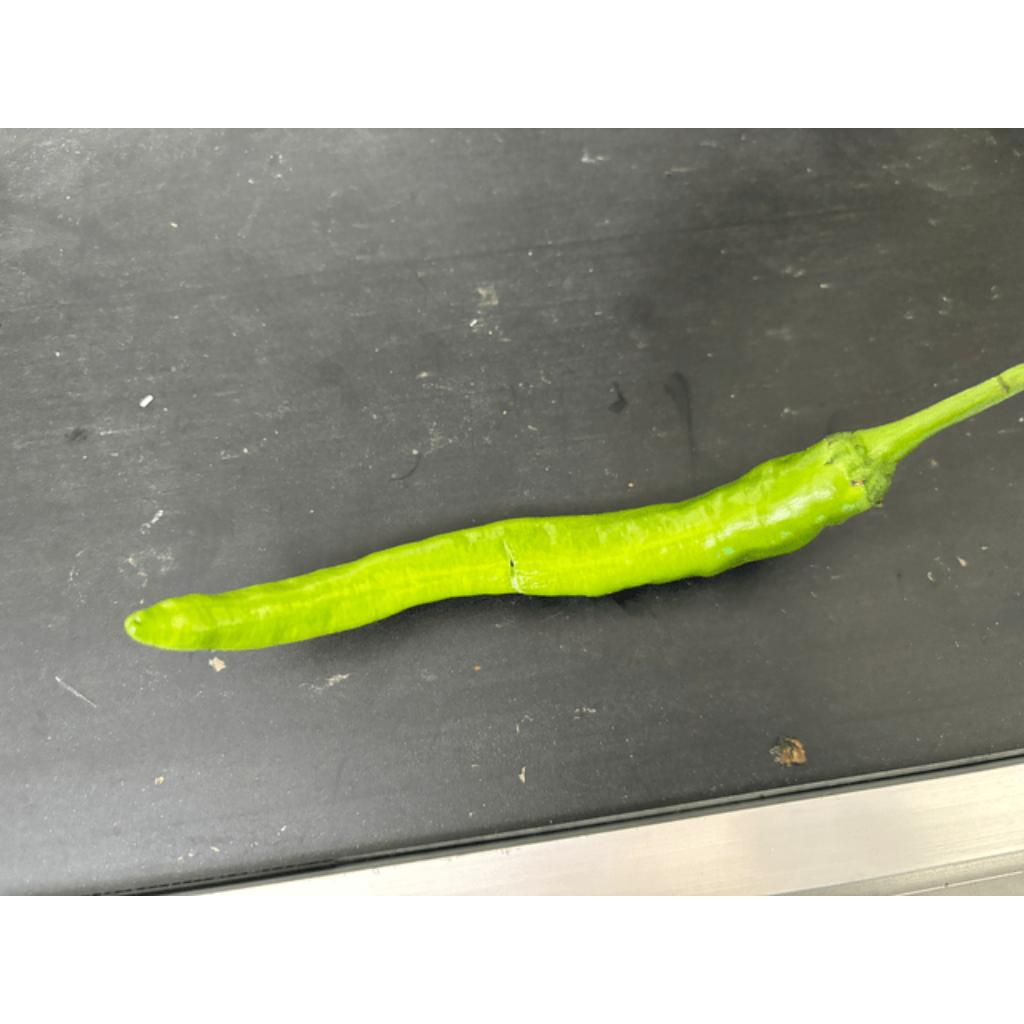chili: (124, 431, 900, 655)
